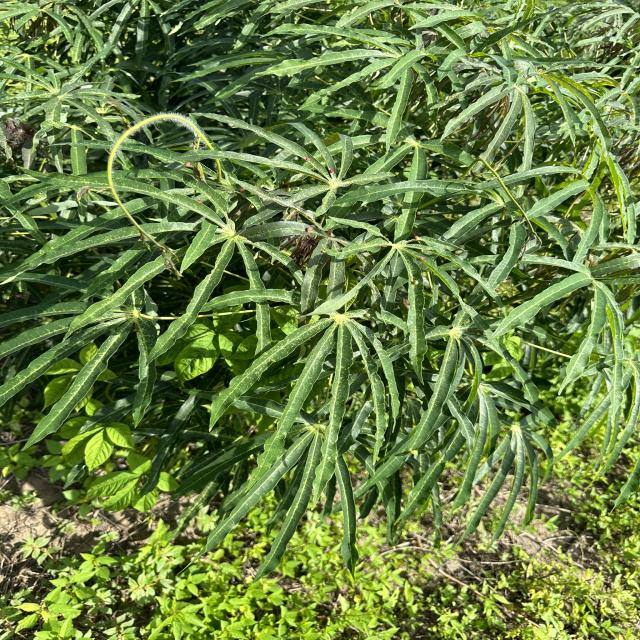Maleza: (56, 537, 640, 640), (180, 311, 256, 381), (71, 460, 178, 505), (63, 416, 130, 474)
Mosca: (402, 438, 431, 467), (410, 271, 425, 295), (317, 224, 338, 238), (304, 217, 316, 235)
